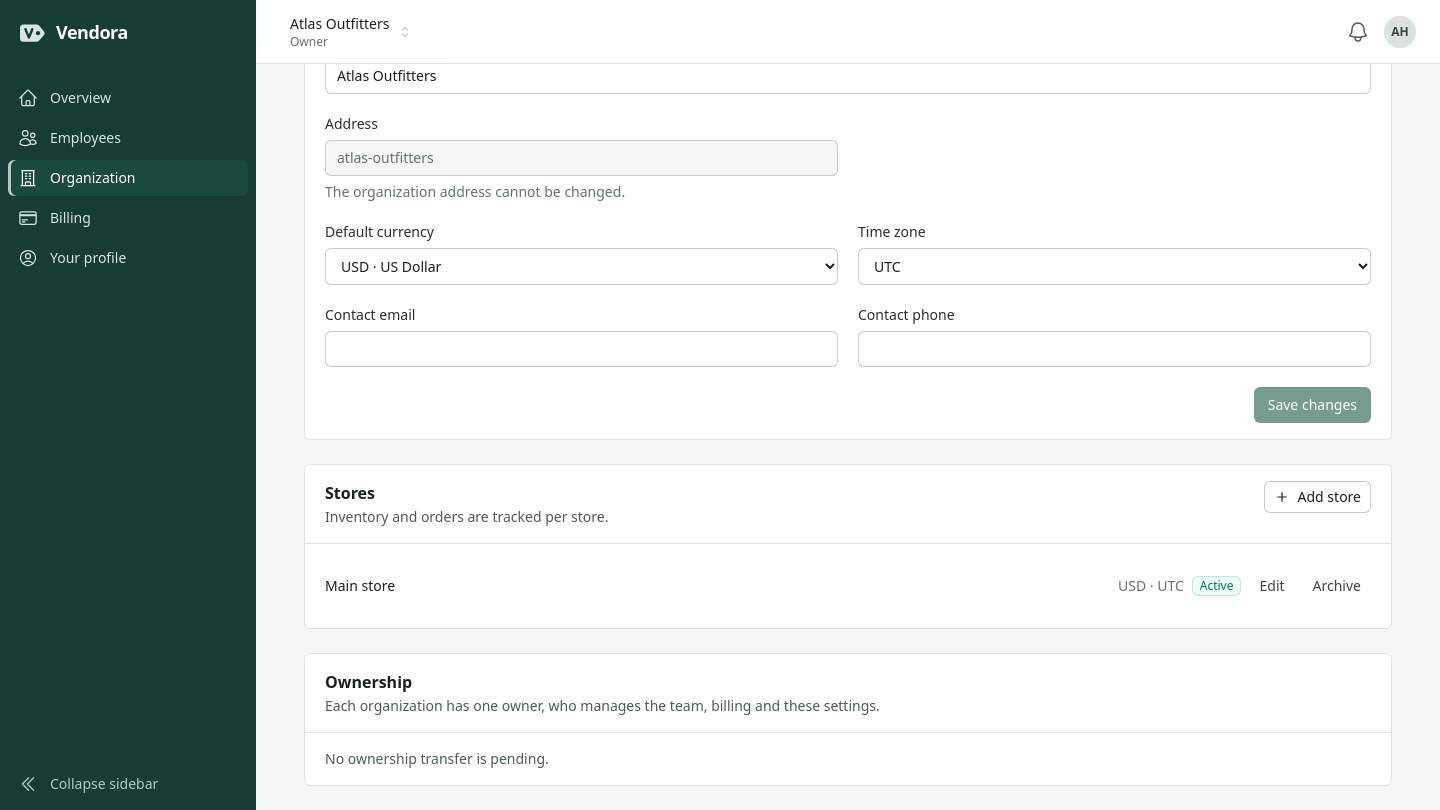
Scenario: stores › archiving asks first and reports a refusal
(page scrolled)
Click the button with aria-label "Archive Main store" at coordinates (1337, 586), box [1302,570,1371,602]
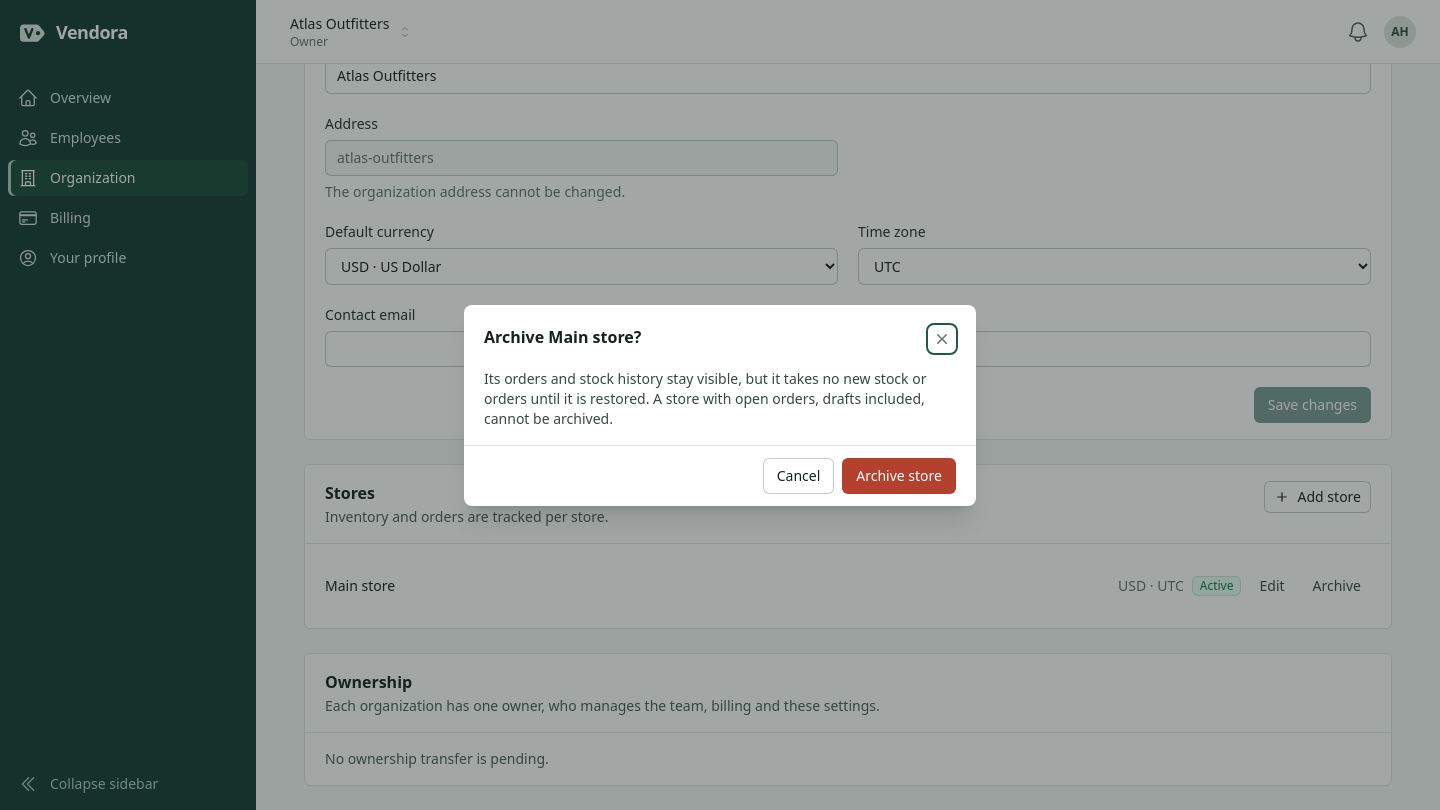
Click the button "Archive store" at coordinates (899, 476), box [842,458,956,494]
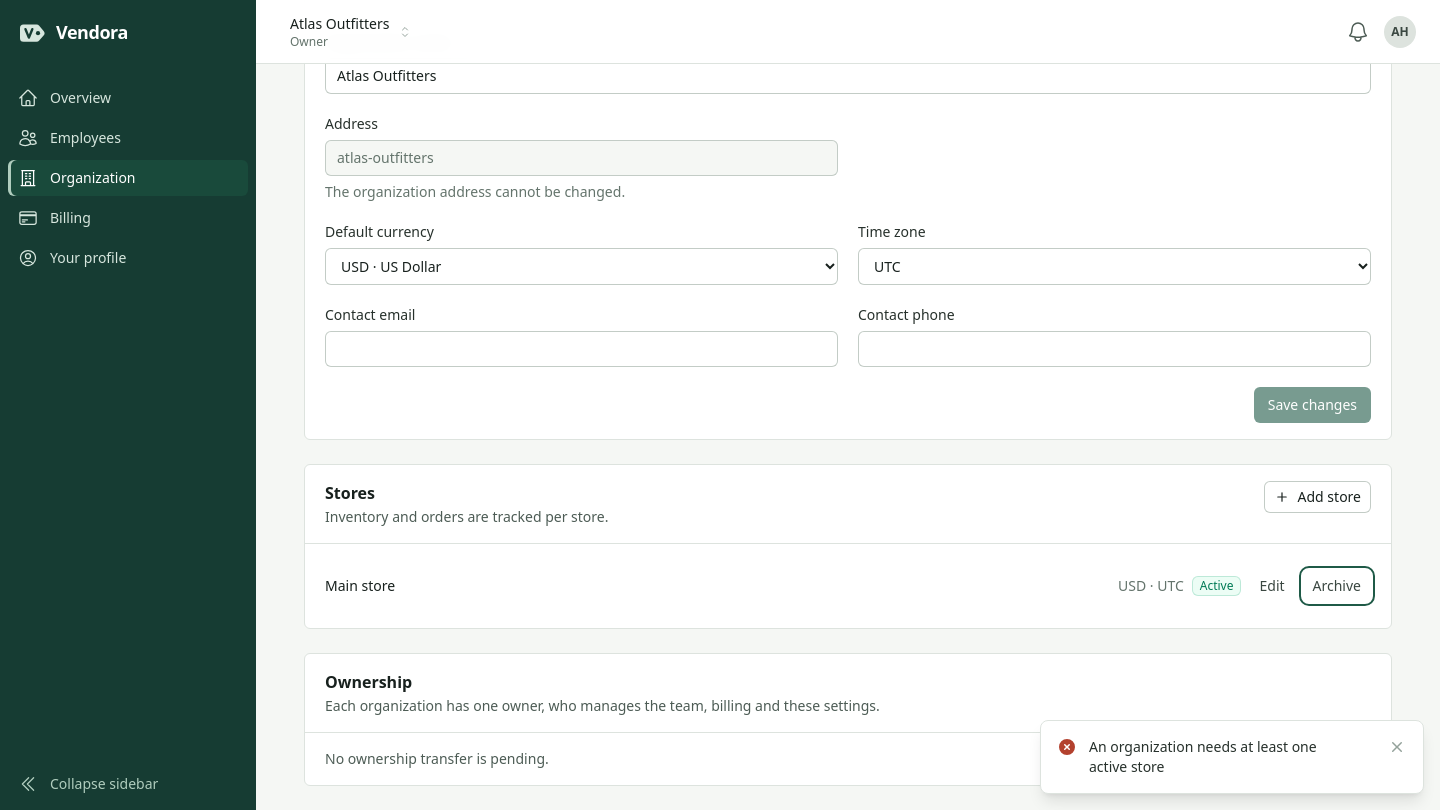
Now the text "An organization needs at least one active store" is shown, box [1089,737,1317,776]
